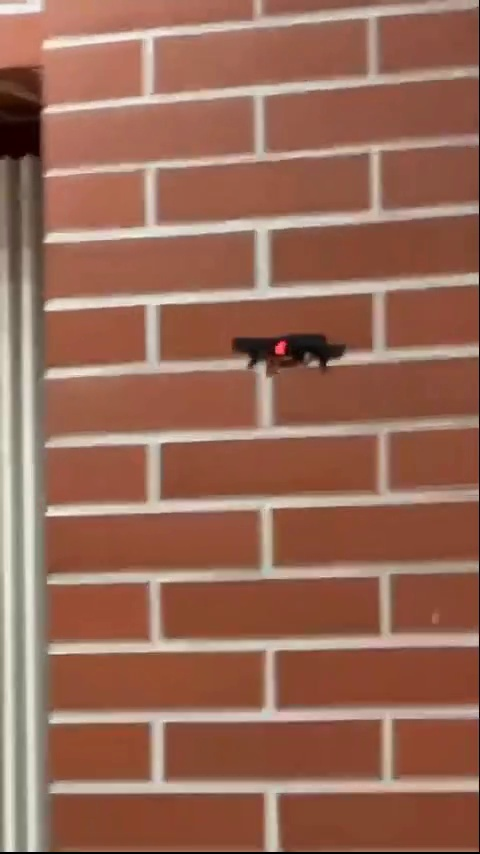drone: (230, 327, 352, 376)
